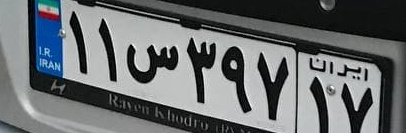character: (217, 38, 255, 117), (255, 45, 292, 124), (126, 34, 180, 86), (185, 31, 218, 105), (337, 79, 377, 133), (96, 11, 123, 83), (66, 7, 93, 78), (307, 75, 334, 133)
